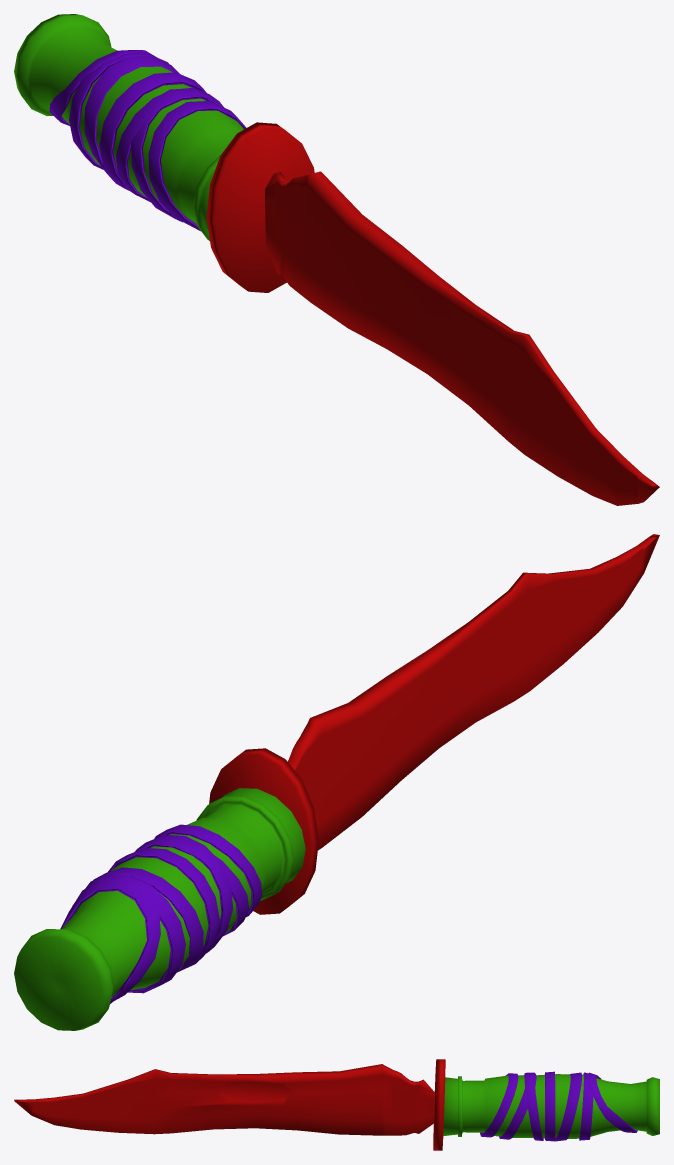
Rendered from Knife_1.fbx.
The picture shows the model from 3 angles, top to bottom: view 1: azimuth 30°, elevation 25°; view 2: azimuth 150°, elevation 25°; view 3: azimuth 270°, elevation 25°; orthographic projection. The views are drawn at different scales.
Parts seen in each view (by area): view 1: Knife_1; view 2: Knife_1; view 3: Knife_1.
Part boxes in pixels (x1,y1,x2,y2): Knife_1: (14,14,659,505); Knife_1: (14,534,659,1030); Knife_1: (14,1059,659,1150).
Bounding box in the file's own units: 0.8087 × 1.11 × 7.45.
